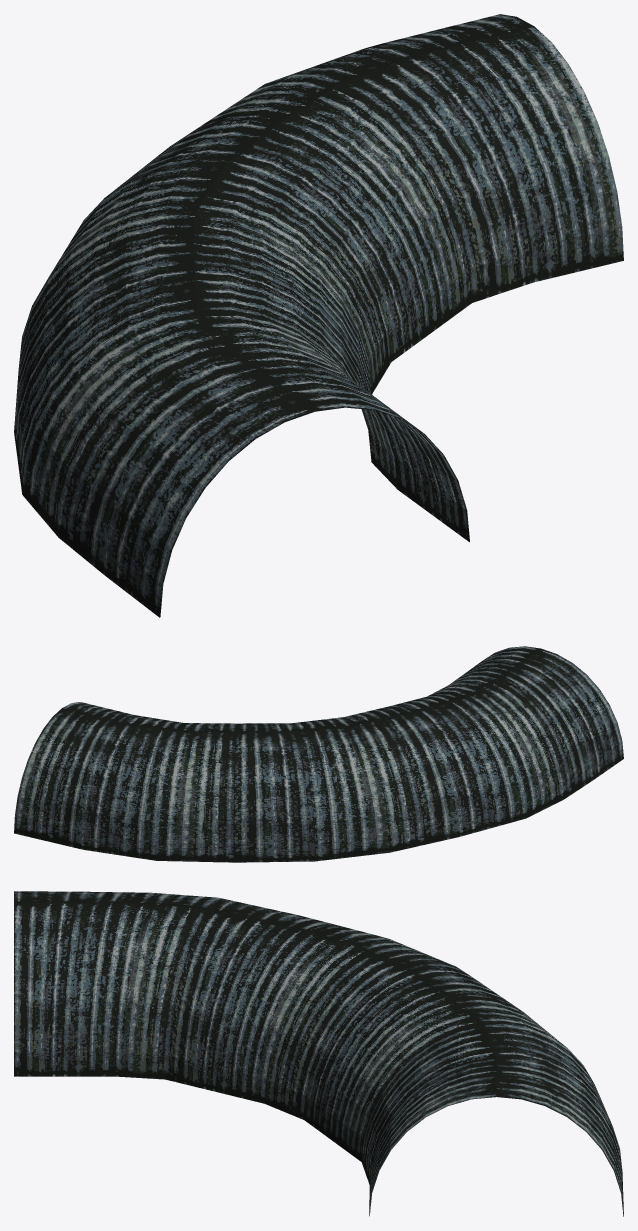
Rendered from SM_EU_MetalTunnel_Bend_1.fbx.
3 renders of one model, top to bottom at view 1: azimuth 30°, elevation 25°; view 2: azimuth 150°, elevation 25°; view 3: azimuth 270°, elevation 25°, orthographic. The views are drawn at different scales.
Visible parts, largest first — view 1: SM_EU_MetalTunnel_Bend_1; view 2: SM_EU_MetalTunnel_Bend_1; view 3: SM_EU_MetalTunnel_Bend_1.
Part boxes in pixels (x1=…): SM_EU_MetalTunnel_Bend_1: x1=14, y1=14, x2=623, y2=617; SM_EU_MetalTunnel_Bend_1: x1=14, y1=646, x2=623, y2=862; SM_EU_MetalTunnel_Bend_1: x1=14, y1=891, x2=623, y2=1216.
Bounding box in the file's own units: 11.5 × 11.97 × 2.6.
